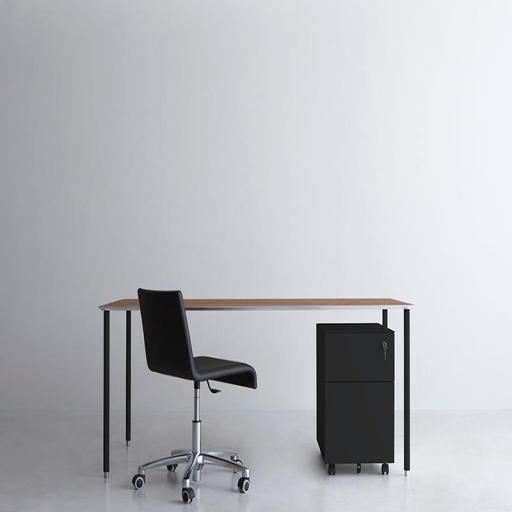table: (97, 287, 421, 486)
